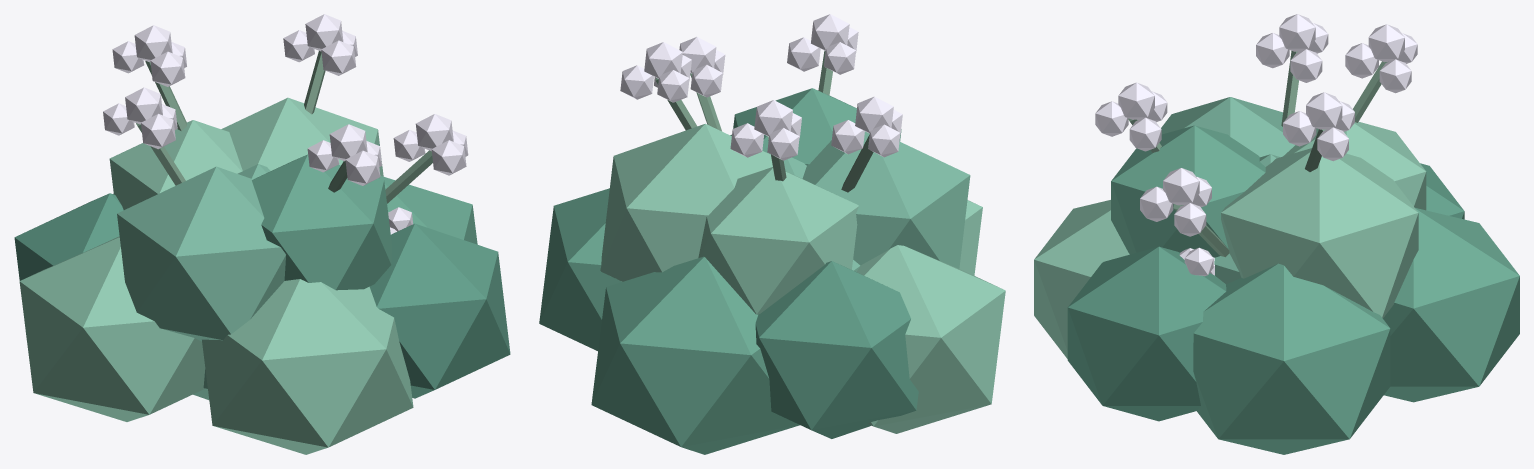
The model's file is arbusto_bagas_brancas.glb.
3 views of the same model, side by side, from view 1: azimuth 30°, elevation 25°; view 2: azimuth 150°, elevation 25°; view 3: azimuth 270°, elevation 25° (orthographic).
Parts seen in each view (by area): view 1: foliage_04, foliage_02, foliage_08, foliage_05, foliage_09, foliage_10, foliage_07, foliage_06, foliage_01, baga_00_0, baga_03_0, baga_02_0 (+16 smaller); view 2: foliage_03, foliage_06, foliage_07, foliage_02, foliage_10, foliage_08, foliage_01, foliage_09, foliage_04, baga_01_0, baga_03_0, baga_00_0 (+12 smaller); view 3: foliage_01, foliage_07, foliage_05, foliage_03, foliage_09, foliage_04, foliage_08, foliage_10, foliage_06, baga_00_0, baga_01_0, baga_04_0 (+16 smaller).
Part boxes in pixels (x1,y1,x2,y2): foliage_04: (202,279,413,454); foliage_02: (19,236,205,421); foliage_08: (117,166,285,341); foliage_05: (369,223,510,398); foliage_09: (252,154,391,290); foliage_10: (109,120,242,209); foliage_07: (221,97,383,178); foliage_06: (14,193,123,280); foliage_01: (380,176,477,244); baga_00_0: (305,14,343,51); baga_03_0: (134,25,172,62); baga_02_0: (329,124,367,161); foliage_03: (591,256,799,454); foliage_06: (755,261,918,438); foliage_07: (600,123,772,281); foliage_02: (857,245,1005,433); foliage_10: (698,167,858,314); foliage_08: (802,131,970,268); foliage_01: (539,188,621,350); foliage_09: (733,88,901,165); foliage_04: (959,200,982,275); baga_01_0: (855,96,893,133); baga_03_0: (754,100,792,136); baga_00_0: (644,42,682,78); foliage_01: (1193,263,1390,454); foliage_07: (1221,148,1418,318); foliage_05: (1067,246,1226,421); foliage_03: (1383,208,1519,402); foliage_09: (1111,125,1265,257); foliage_04: (1034,200,1129,358); foliage_08: (1161,97,1295,157); foliage_10: (1283,122,1426,210); foliage_06: (1420,163,1464,219); baga_00_0: (1306,92,1342,129); baga_01_0: (1279,14,1315,51); baga_04_0: (1163,168,1199,205).
Size of the model in its own units: 1.12 by 0.8908 by 1.09.
